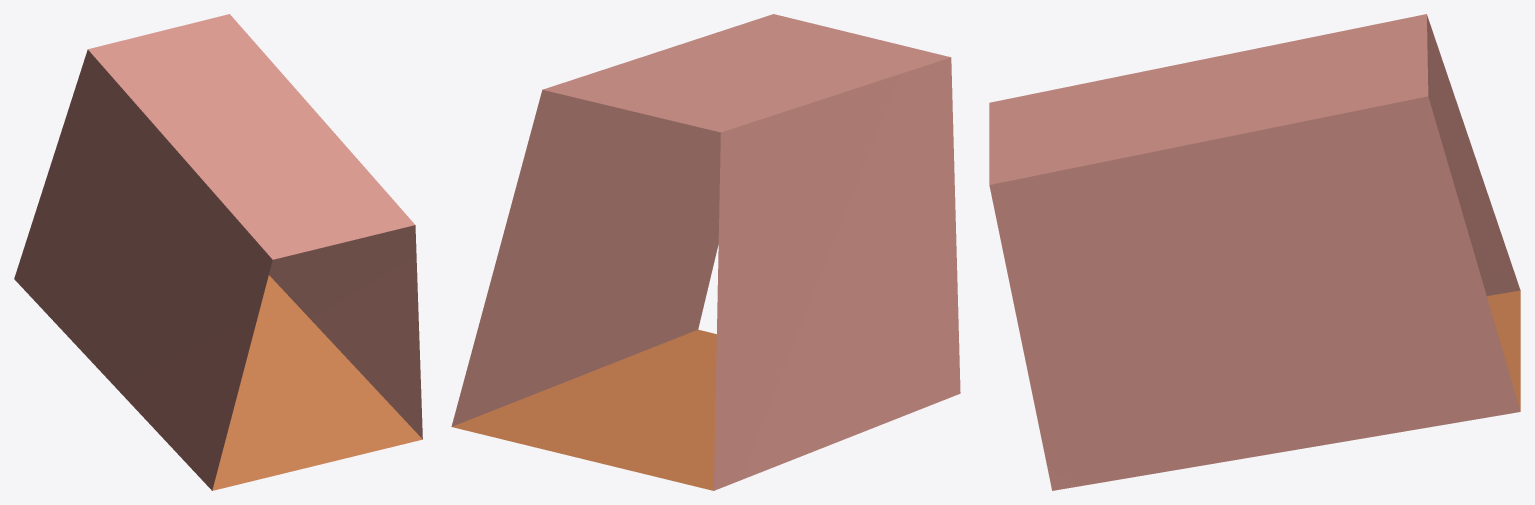
File: cluster_12.fbx
3 views of the same model, side by side, from view 1: azimuth 30°, elevation 25°; view 2: azimuth 150°, elevation 25°; view 3: azimuth 270°, elevation 25° (orthographic). The views are drawn at different scales.
Visible parts, largest first — view 1: cluster_12; view 2: cluster_12; view 3: cluster_12.
Boxes of the visible parts, bbox=[...] form: cluster_12: bbox=[14, 14, 422, 490]; cluster_12: bbox=[451, 14, 960, 490]; cluster_12: bbox=[989, 14, 1520, 490].
Size of the model in its own units: 12406 by 17862 by 22926.
